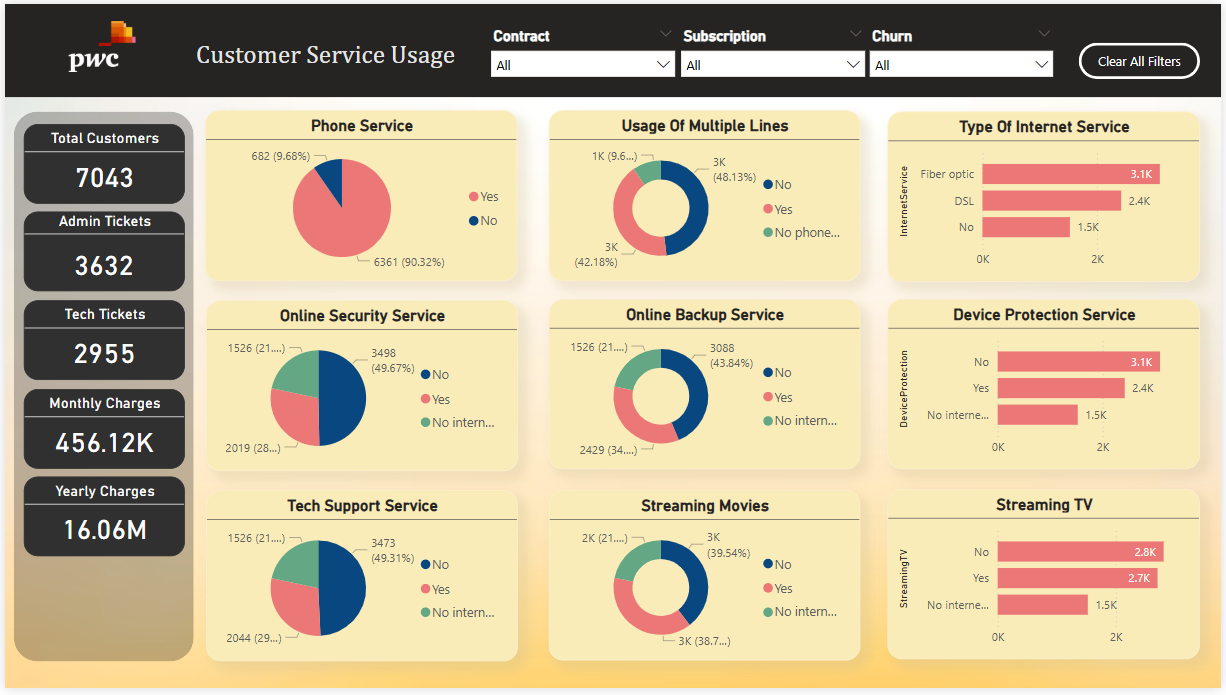

The page's visual inventory and layout, read from the dashboard file:
{"tool":"powerbi","page":{"name":"Customer Service Usage","canvas":[1280,720],"ordinal":1},"visuals":[{"type":"shape","box":[9.2,113.2,189.5,578.9],"z":0,"group":"g1"},{"type":"shape","box":[0,0,1280.3,98],"z":1000},{"type":"clusteredBarChart","title":" Device Protection Service","fields":{"Category":[" Churn Dataset.DeviceProtection"],"Y":[" Churn Dataset.Total Customers"]},"box":[928.9,310.5,328.9,178.9],"z":2000},{"type":"donutChart","title":"Online Backup Service","fields":{"Category":[" Churn Dataset.OnlineBackup"],"Y":[" Churn Dataset.Total Customers"]},"box":[572.4,310.5,327.6,178.9],"z":3000},{"type":"pieChart","title":" Online Security Service","fields":{"Y":[" Churn Dataset.Total Customers"],"Category":[" Churn Dataset.OnlineSecurity"]},"box":[211.8,311.8,327.6,180.3],"z":4000},{"type":"pieChart","title":"Phone Service","fields":{"Y":[" Churn Dataset.Total Customers"],"Category":[" Churn Dataset.PhoneService"]},"box":[210.5,111.8,328.9,180.3],"z":5000},{"type":"donutChart","title":"Streaming Movies","fields":{"Y":[" Churn Dataset.Total Customers"],"Category":[" Churn Dataset.StreamingMovies"]},"box":[572.4,511.8,327.6,178.9],"z":6000},{"type":"clusteredBarChart","title":" Streaming TV","fields":{"Category":[" Churn Dataset.StreamingTV"],"Y":[" Churn Dataset.Total Customers"]},"box":[928.9,510.5,328.9,178.9],"z":7000},{"type":"pieChart","title":" Tech Support Service","fields":{"Y":[" Churn Dataset.Total Customers"],"Category":[" Churn Dataset.TechSupport"]},"box":[211.8,511.8,327.6,180.3],"z":8000},{"type":"clusteredBarChart","title":"Type Of Internet Service","fields":{"Category":[" Churn Dataset.InternetService"],"Y":[" Churn Dataset.Total Customers"]},"box":[928.9,113.2,328.9,178.9],"z":9000},{"type":"donutChart","title":"Usage Of Multiple Lines","fields":{"Y":[" Churn Dataset.Total Customers"],"Category":[" Churn Dataset.MultipleLines"]},"box":[572.4,111.8,327.6,180.3],"z":10000},{"type":"card","title":"Total Customers","fields":{"Values":["01 Churn-Dataset.Total Customer"]},"box":[19.2,125.9,169.6,83.7],"z":11000,"group":"g1"},{"type":"card","title":"Admin Tickets","fields":{"Values":["Sum( Churn Dataset.numAdminTickets)"]},"box":[19.2,218.9,169.5,84.2],"z":12000,"group":"g1"},{"type":"card","title":"Tech Tickets","fields":{"Values":["Sum( Churn Dataset.numTechTickets)"]},"box":[19.2,311.9,169.5,84.2],"z":13000,"group":"g1"},{"type":"card","title":" Monthly Charges","fields":{"Values":["Sum( Churn Dataset.MonthlyCharges)"]},"box":[19.2,405,169.5,84.2],"z":14000,"group":"g1"},{"type":"card","title":"Yearly Charges","fields":{"Values":["Sum( Churn Dataset.TotalCharges)"]},"box":[19.7,498,169.5,84.2],"z":15000,"group":"g1"},{"type":"slicer","fields":{"Values":[" Churn Dataset.Churn"]},"box":[900,20.1,213.5,60.3],"z":16000},{"type":"actionButton","box":[1130.3,40.8,127.6,38.2],"z":17000},{"type":"textbox","box":[185.5,36.8,303.9,40.8],"z":18000},{"type":"slicer","fields":{"Values":[" Churn Dataset.Tenure Range"]},"box":[701,20.2,214,60],"z":19000},{"type":"slicer","fields":{"Values":[" Churn Dataset.Contract"]},"box":[501,19.8,214,59.9],"z":20000},{"type":"image","box":[34,13,136,63],"z":21000},{"type":"group","id":"g1","title":"Group 1","box":[9.2,113.2,189.5,578.9],"z":21001}]}

Visuals, with their boxes in screenshot pixels (x1, y1, x2, y2), scaled from the page's 1280x720 canvas onto the 1226x695 screenshot:
shape: detection(9, 109, 190, 668)
shape: detection(0, 0, 1225, 95)
" Device Protection Service" clusteredBarChart: detection(890, 300, 1205, 472)
"Online Backup Service" donutChart: detection(548, 300, 862, 472)
" Online Security Service" pieChart: detection(203, 301, 517, 475)
"Phone Service" pieChart: detection(202, 108, 517, 282)
"Streaming Movies" donutChart: detection(548, 494, 862, 667)
" Streaming TV" clusteredBarChart: detection(890, 493, 1205, 665)
" Tech Support Service" pieChart: detection(203, 494, 517, 668)
"Type Of Internet Service" clusteredBarChart: detection(890, 109, 1205, 282)
"Usage Of Multiple Lines" donutChart: detection(548, 108, 862, 282)
"Total Customers" card: detection(18, 122, 181, 202)
"Admin Tickets" card: detection(18, 211, 181, 293)
"Tech Tickets" card: detection(18, 301, 181, 382)
" Monthly Charges" card: detection(18, 391, 181, 472)
"Yearly Charges" card: detection(19, 481, 181, 562)
slicer -  Churn Dataset.Churn: detection(862, 19, 1067, 78)
actionButton: detection(1083, 39, 1205, 76)
textbox: detection(178, 36, 469, 75)
slicer -  Churn Dataset.Tenure Range: detection(671, 19, 876, 77)
slicer -  Churn Dataset.Contract: detection(480, 19, 685, 77)
image: detection(33, 13, 163, 73)
"Group 1" group: detection(9, 109, 190, 668)
